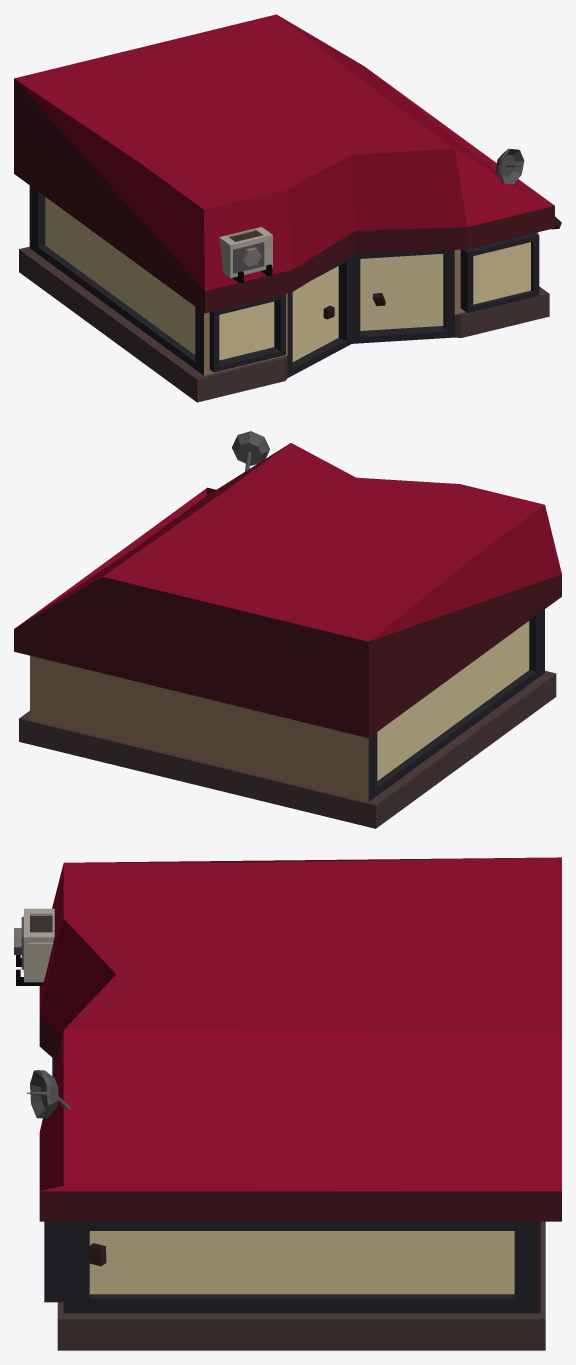
File: StoreC.fbx
3 views of the same model, one above another, from view 1: azimuth 30°, elevation 25°; view 2: azimuth 150°, elevation 25°; view 3: azimuth 270°, elevation 25° (orthographic). The views are drawn at different scales.
Parts seen in each view (by area): view 1: Cube.327; view 2: Cube.327; view 3: Cube.327.
Boxes of the visible parts, x1=… form: Cube.327: x1=14, y1=14, x2=561, y2=402; Cube.327: x1=14, y1=431, x2=561, y2=828; Cube.327: x1=14, y1=857, x2=561, y2=1350.
Size of the model in its own units: 5.28 by 2.5 by 4.81.
